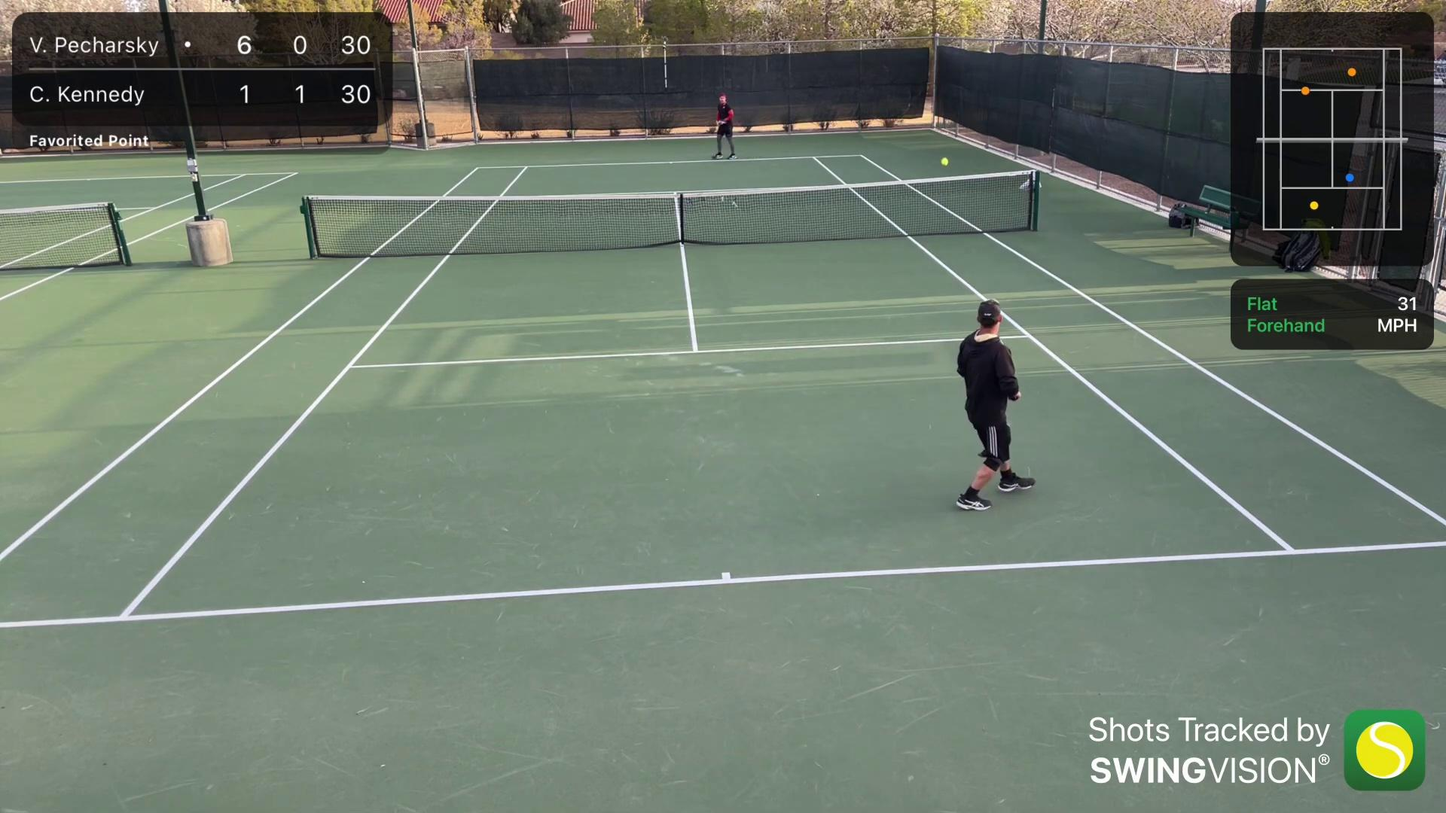ball: (941, 156, 949, 168)
